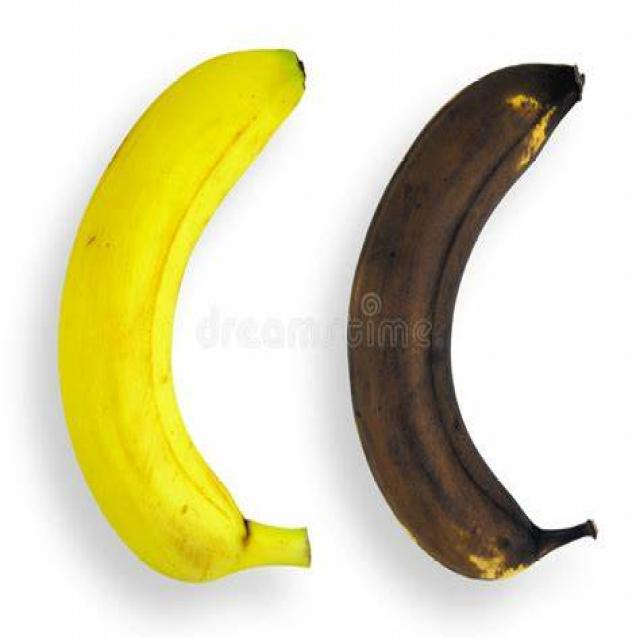Banana: (62, 51, 327, 577), (355, 60, 609, 575)
